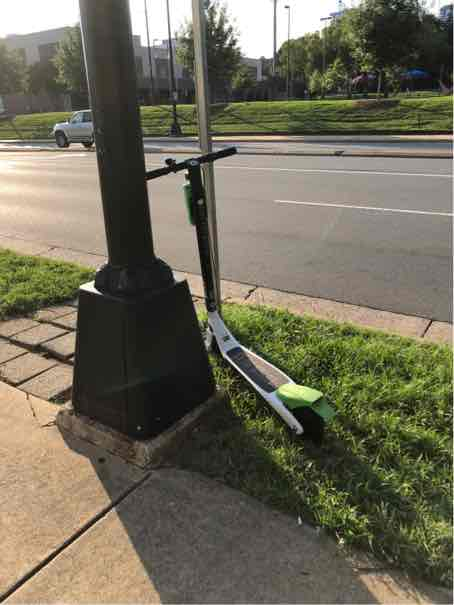scooter: (121, 137, 341, 447)
